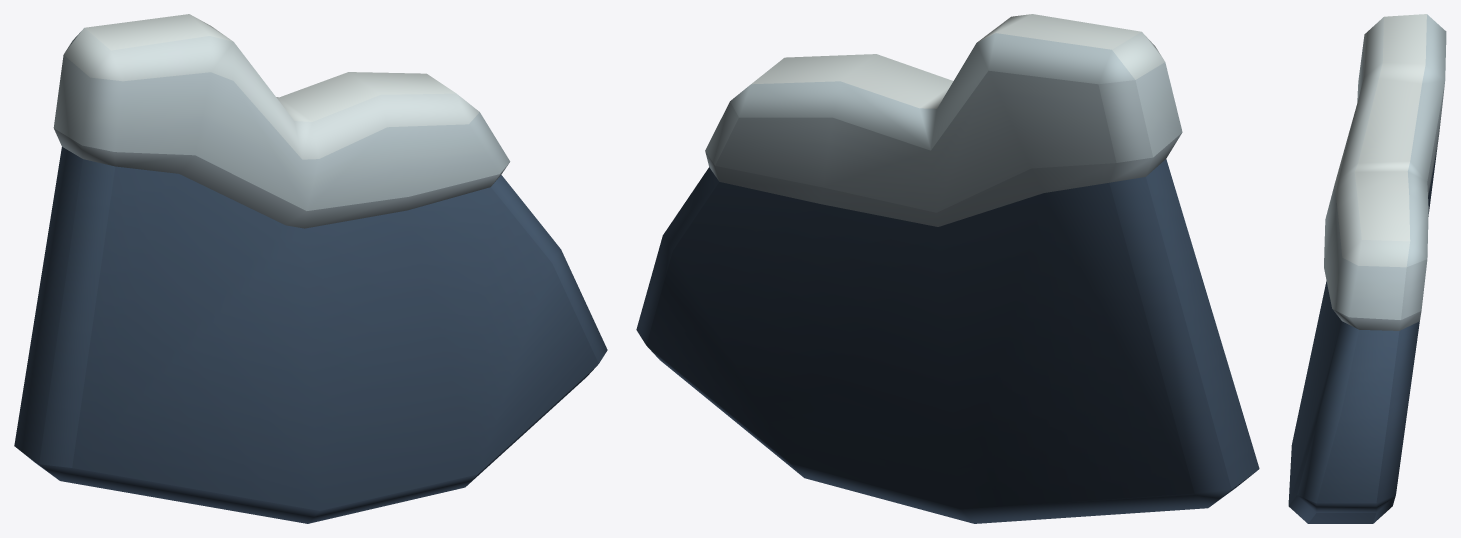
The model's file is rock_snow_010.fbx.
3 views of the same model, side by side, from view 1: azimuth 30°, elevation 25°; view 2: azimuth 150°, elevation 25°; view 3: azimuth 270°, elevation 25° (orthographic). The views are drawn at different scales.
Parts seen in each view (by area): view 1: rock_snow_010; view 2: rock_snow_010; view 3: rock_snow_010.
Boxes of the visible parts, x1,y1,x2,y2 form: rock_snow_010: (14, 14, 607, 523); rock_snow_010: (636, 14, 1259, 523); rock_snow_010: (1288, 14, 1446, 523).
Size of the model in its own units: 207 by 175 by 64.47.
Materials: 1 (1 with a texture image).
